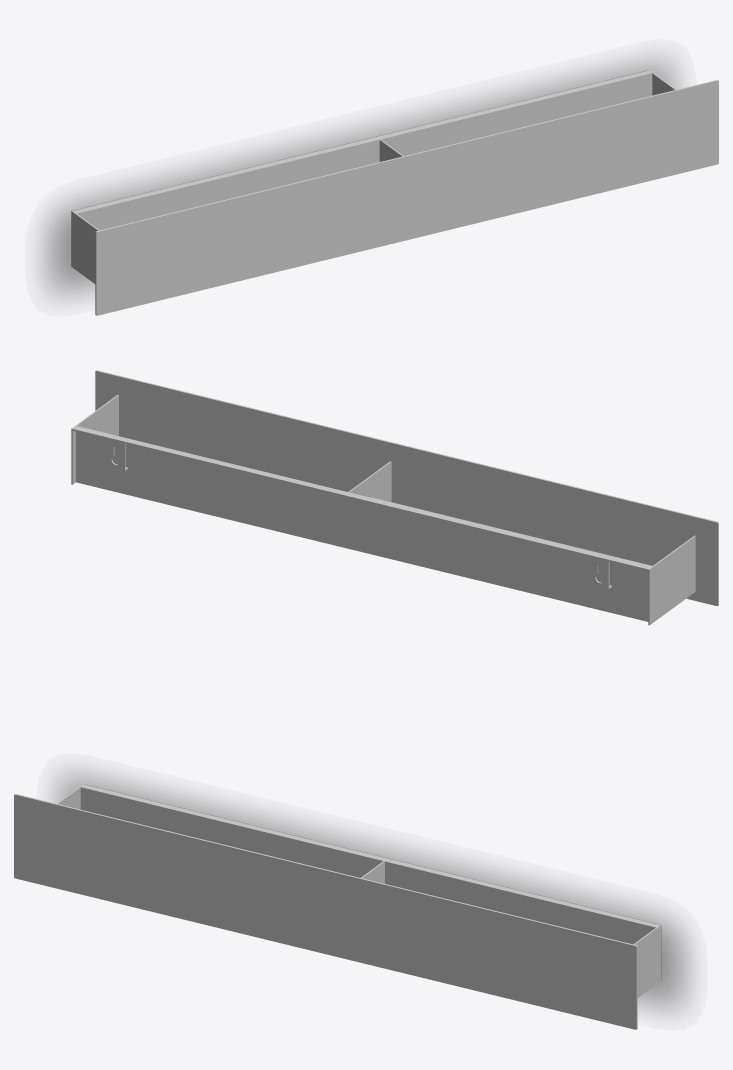
The model's file is skyline-double.ff57d5d5ef.ar.glb.
The picture shows the model from 3 angles, top to bottom: view 1: azimuth 30°, elevation 25°; view 2: azimuth 150°, elevation 25°; view 3: azimuth 330°, elevation 25°; orthographic projection.
Parts seen in each view (by area): view 1: NAUO1, object 3; view 2: NAUO1, NAUO2; view 3: NAUO1, object 3.
Boxes of the visible parts, <box> form: NAUO1: <box>71,70,718,315</box>; object 3: <box>42,59,678,296</box>; NAUO1: <box>71,370,718,625</box>; NAUO2: <box>107,439,611,589</box>; NAUO1: <box>14,784,661,1029</box>; object 3: <box>54,773,690,1010</box>.
Size of the model in its own units: 0.78 by 0.17 by 0.092.
2 materials, 1 textured.
